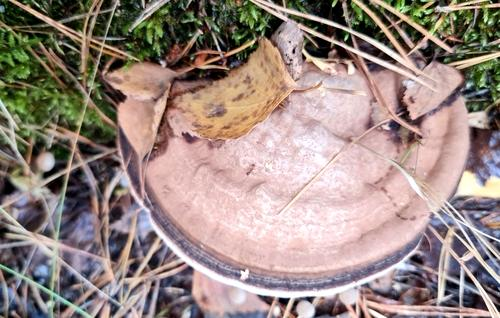Ganoderma - Fruit Body: (114, 54, 470, 299)
